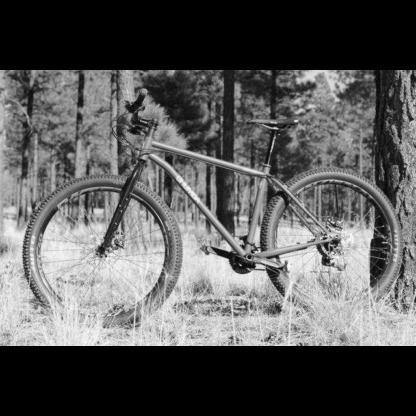Bicycle: (15, 81, 414, 338)
